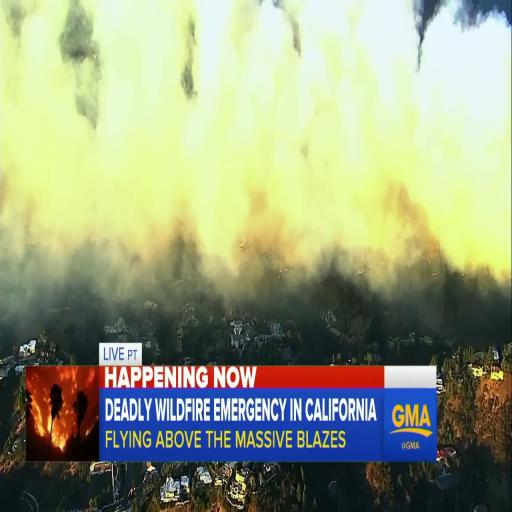smoke: (0, 1, 510, 299), (0, 2, 241, 296), (246, 0, 365, 292), (368, 53, 474, 283)
